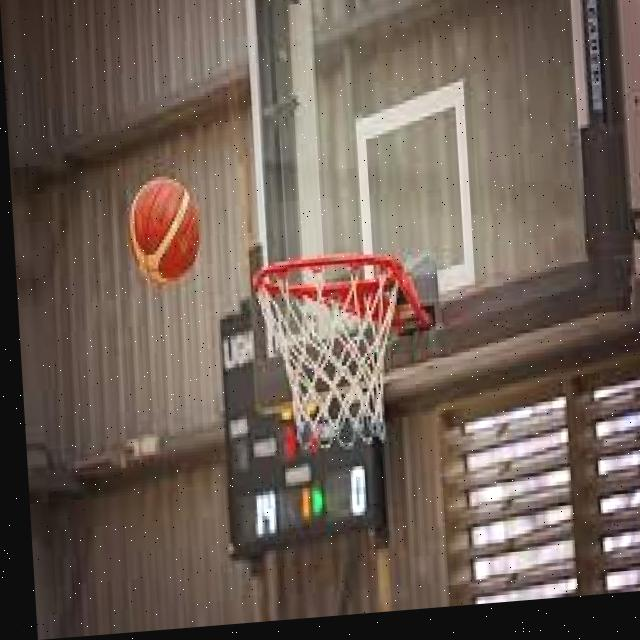hoop: (243, 244, 442, 479)
